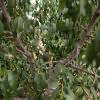Peach leaf: (70, 0, 79, 26), (8, 70, 18, 92), (85, 1, 92, 24), (12, 16, 19, 38), (22, 17, 29, 38), (47, 81, 63, 90), (0, 81, 8, 99), (33, 73, 40, 93), (40, 70, 47, 90), (67, 71, 77, 84), (78, 51, 85, 69), (57, 64, 67, 76), (82, 86, 91, 97), (90, 85, 97, 99), (18, 16, 23, 33), (76, 86, 83, 96), (8, 0, 13, 14), (35, 59, 41, 70), (52, 21, 57, 34), (72, 85, 80, 93), (17, 68, 22, 79), (33, 17, 37, 27), (29, 25, 33, 35), (77, 70, 81, 79), (43, 25, 47, 31)
